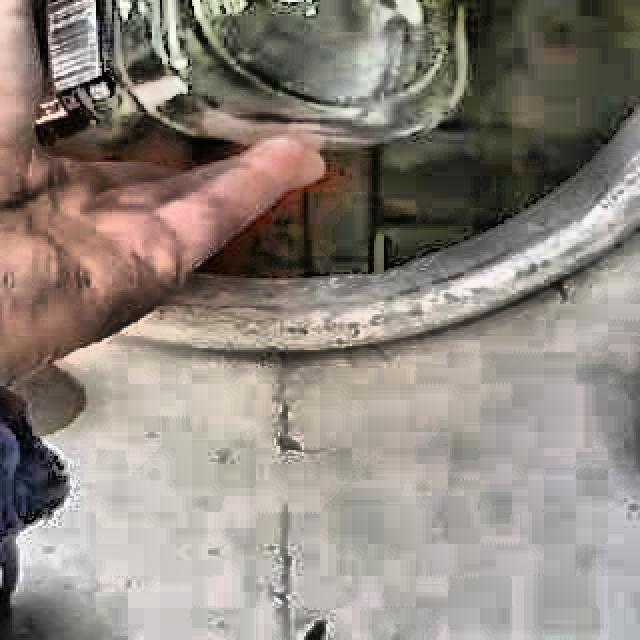glass: (35, 0, 467, 159)
